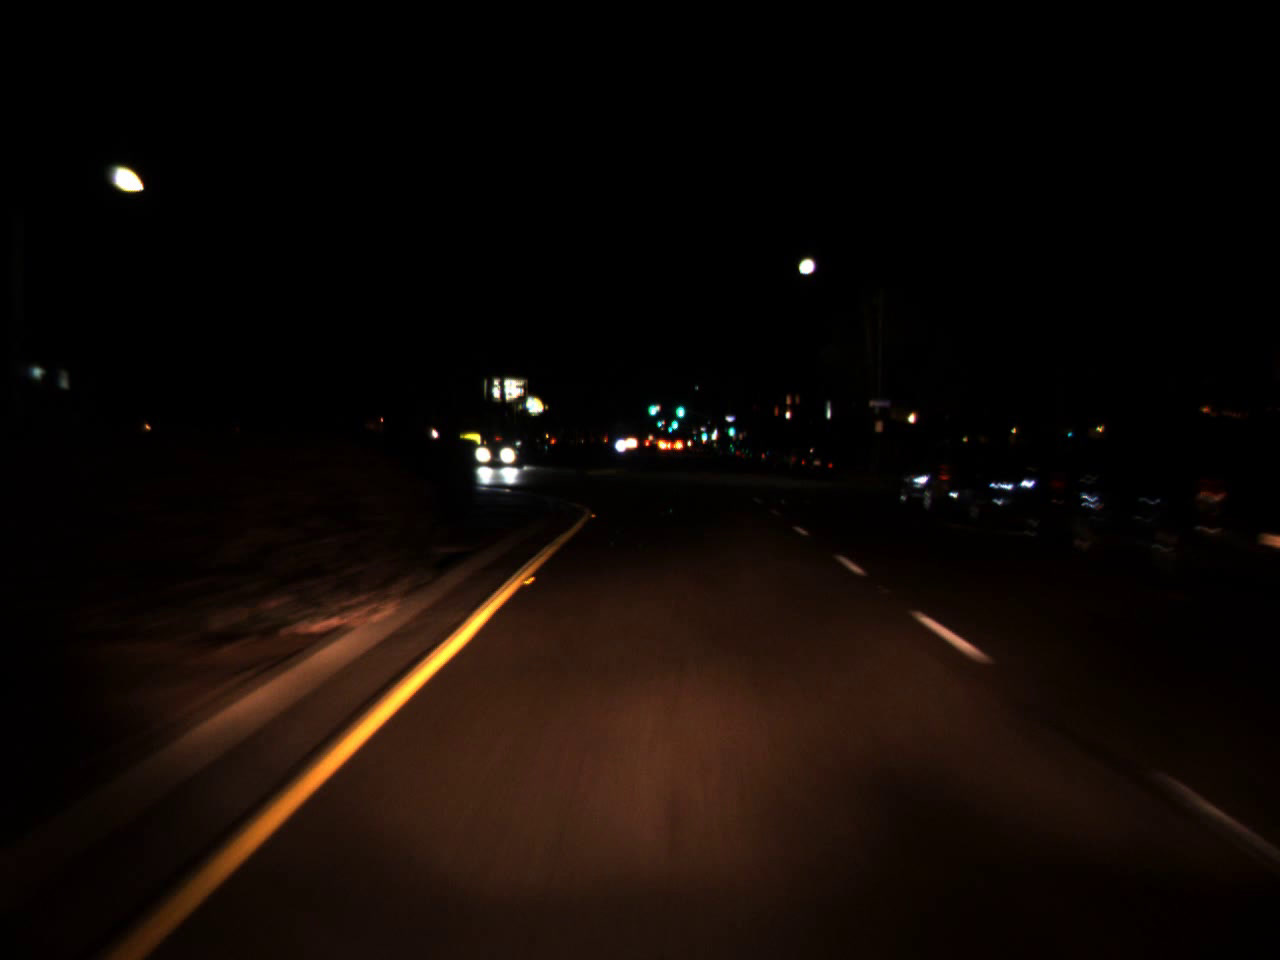go: (666, 410, 680, 431), (647, 392, 657, 419), (672, 397, 684, 418), (728, 419, 735, 437), (655, 414, 662, 429), (699, 428, 708, 440), (665, 421, 672, 433)
